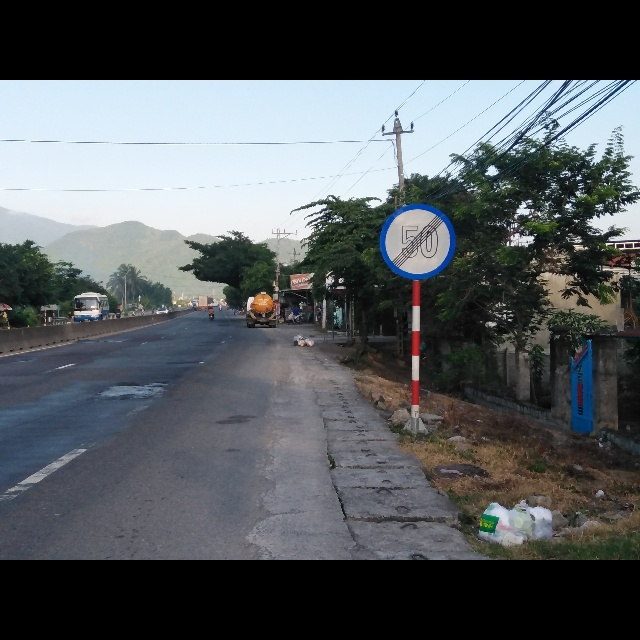Hết hạn chế tốc độ tối đa 50km/h: (377, 202, 456, 281)
